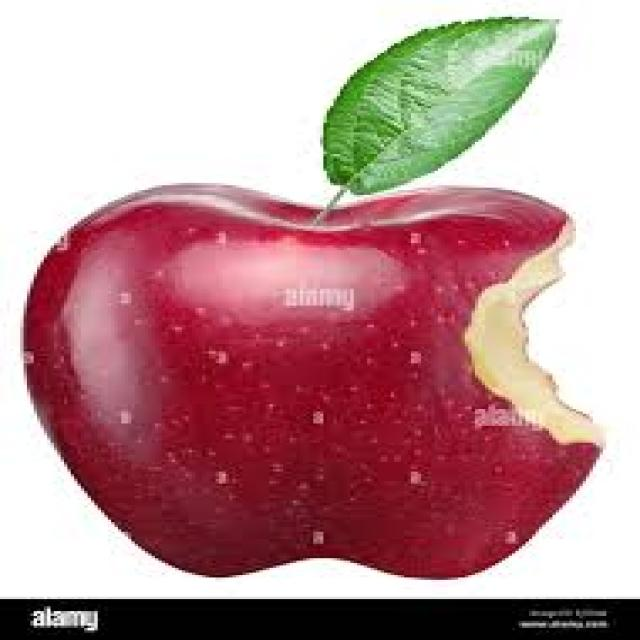Used Apple: (21, 182, 608, 576)
